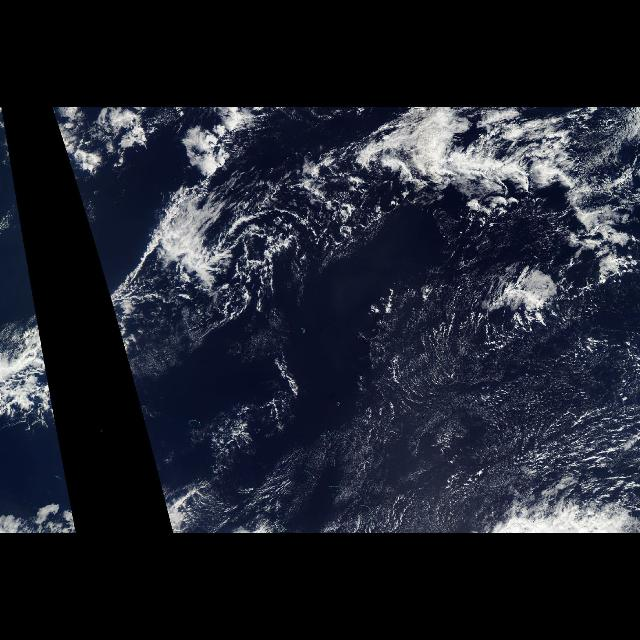Gravel: (222, 160, 370, 288)
Sugar: (343, 312, 499, 520)
